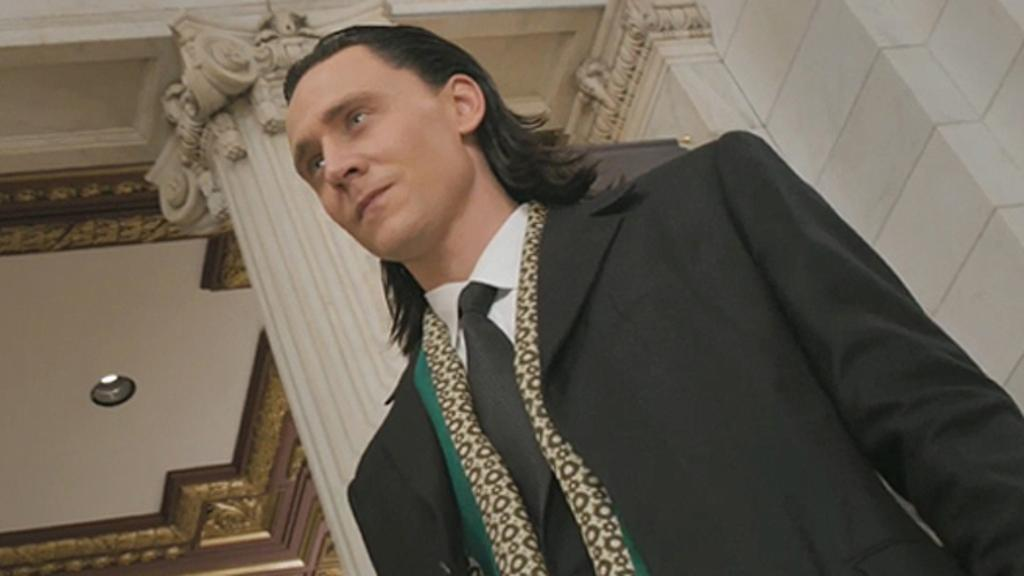face: (284, 48, 470, 256)
